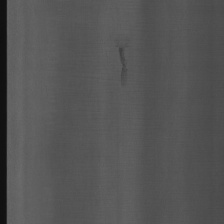water_spot: (109, 35, 134, 96)
